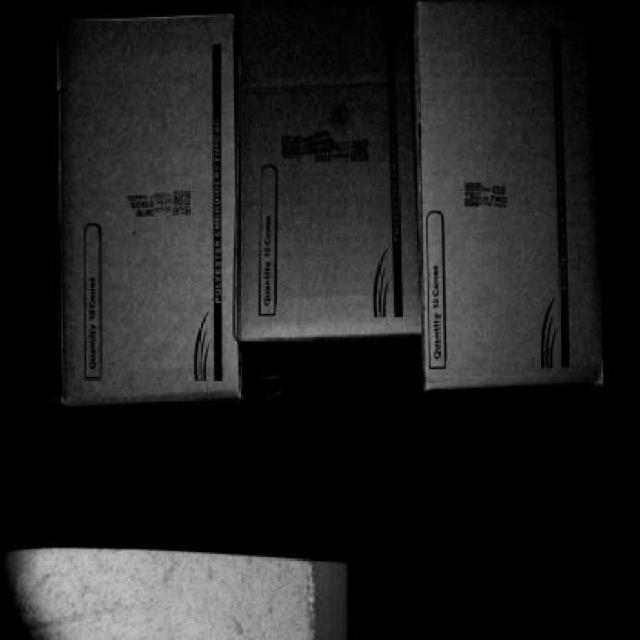cardboxes: (424, 4, 605, 384), (58, 17, 238, 394), (240, 11, 422, 331)
